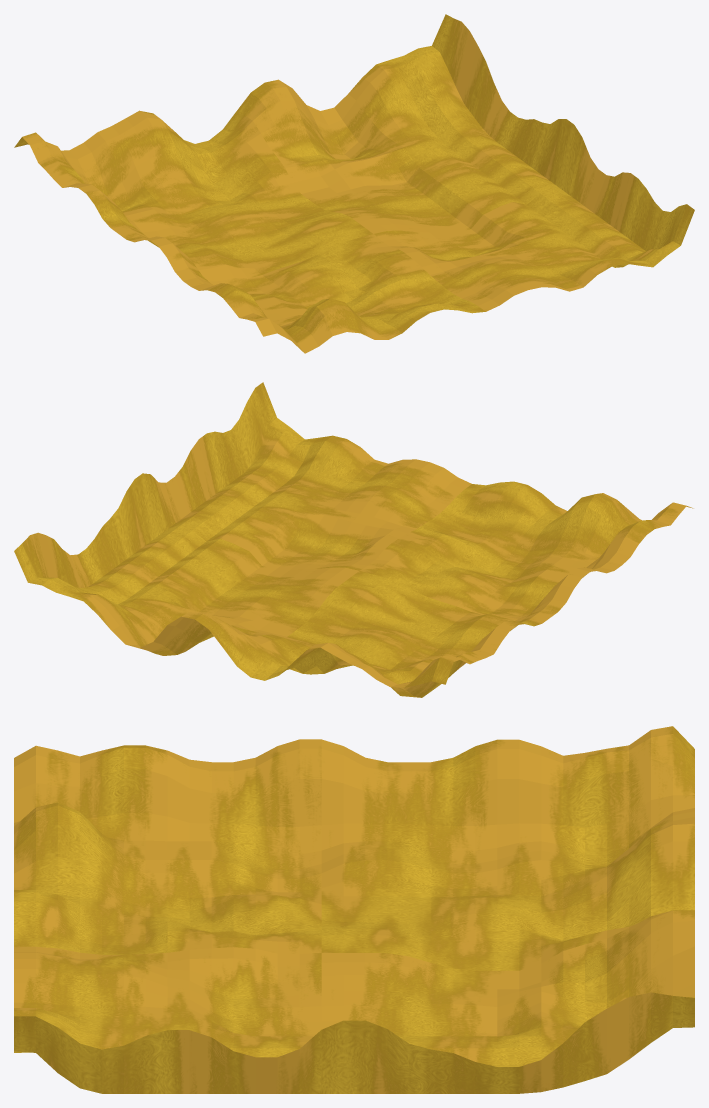
The model's file is sumer_map.glb.
3 renders of one model, top to bottom at view 1: azimuth 30°, elevation 25°; view 2: azimuth 150°, elevation 25°; view 3: azimuth 270°, elevation 25°, orthographic. The views are drawn at different scales.
Parts seen in each view (by area): view 1: sumer_sand; view 2: sumer_sand; view 3: sumer_sand.
Part boxes in pixels (x1,y1,x2,y2): sumer_sand: [14, 14, 694, 353]; sumer_sand: [14, 382, 693, 697]; sumer_sand: [14, 726, 694, 1093].
Bounding box in the file's own units: 120 × 25.56 × 120.
Materials: 1 (1 with a texture image).
